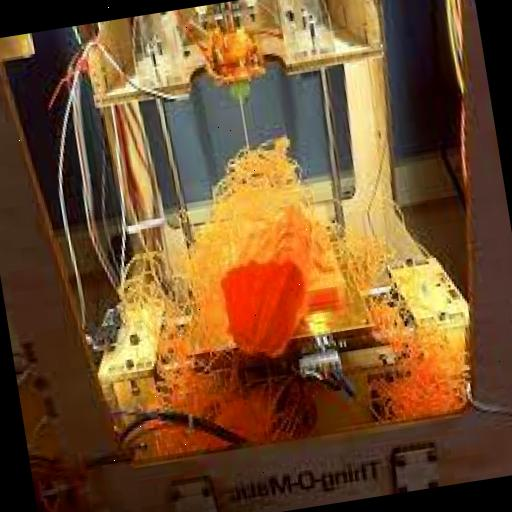spaghetti: (80, 126, 378, 433), (334, 234, 470, 428)
